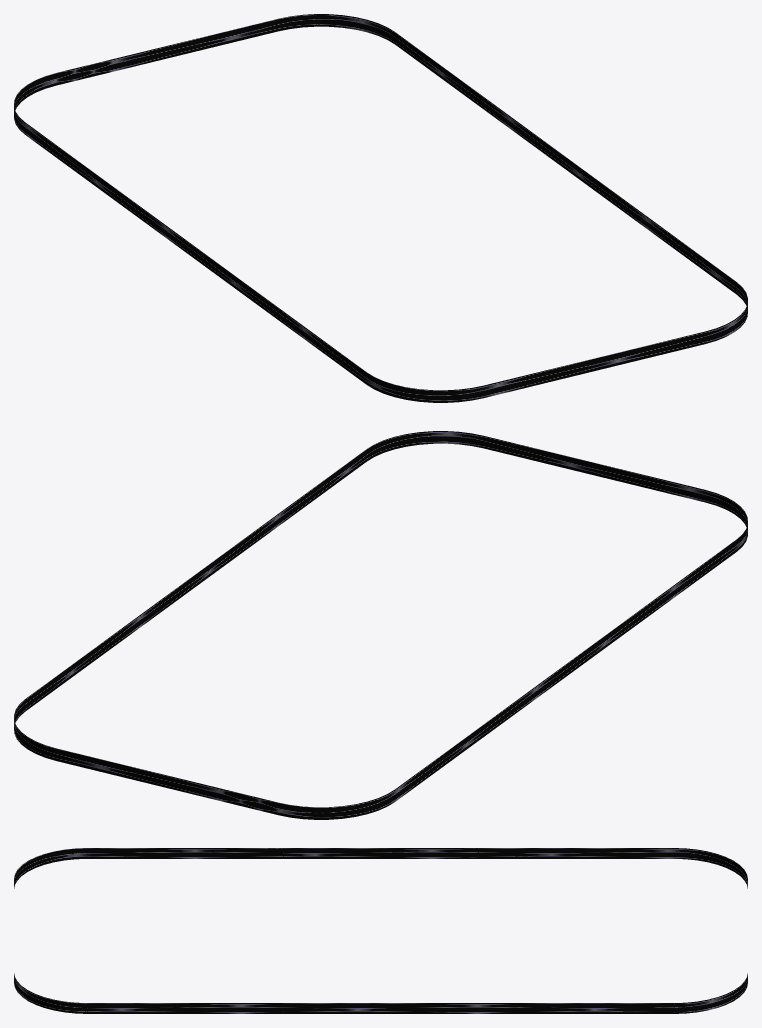
Rendered from Border.fbx.
3 views of the same model, one above another, from view 1: azimuth 30°, elevation 25°; view 2: azimuth 150°, elevation 25°; view 3: azimuth 270°, elevation 25° (orthographic). The views are drawn at different scales.
Visible parts, largest first — view 1: ChamferBox001; view 2: ChamferBox001; view 3: ChamferBox001.
Part boxes in pixels (x1,y1,x2,y2): ChamferBox001: [14, 14, 747, 402]; ChamferBox001: [14, 431, 747, 819]; ChamferBox001: [14, 848, 747, 1013].
Bounding box in the file's own units: 78.74 × 2.58 × 157.
